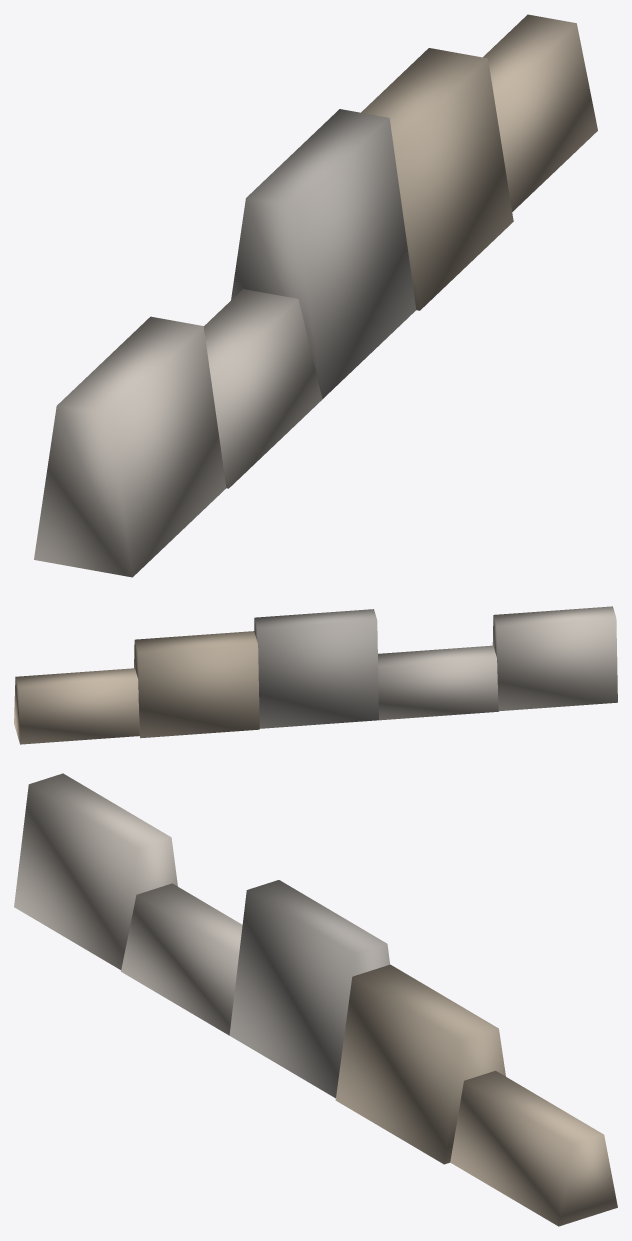
File: farm_-7_3_collision.glb
The picture shows the model from 3 angles, top to bottom: view 1: azimuth 30°, elevation 25°; view 2: azimuth 150°, elevation 25°; view 3: azimuth 270°, elevation 25°; orthographic projection. The views are drawn at different scales.
Parts seen in each view (by area): view 1: geometry_0; view 2: geometry_0; view 3: geometry_0.
Boxes of the visible parts, bbox=[...] form: geometry_0: bbox=[34, 14, 597, 577]; geometry_0: bbox=[14, 606, 617, 744]; geometry_0: bbox=[14, 773, 617, 1226].
Bounding box in the file's own units: 6.38 × 1.38 × 5.04.
